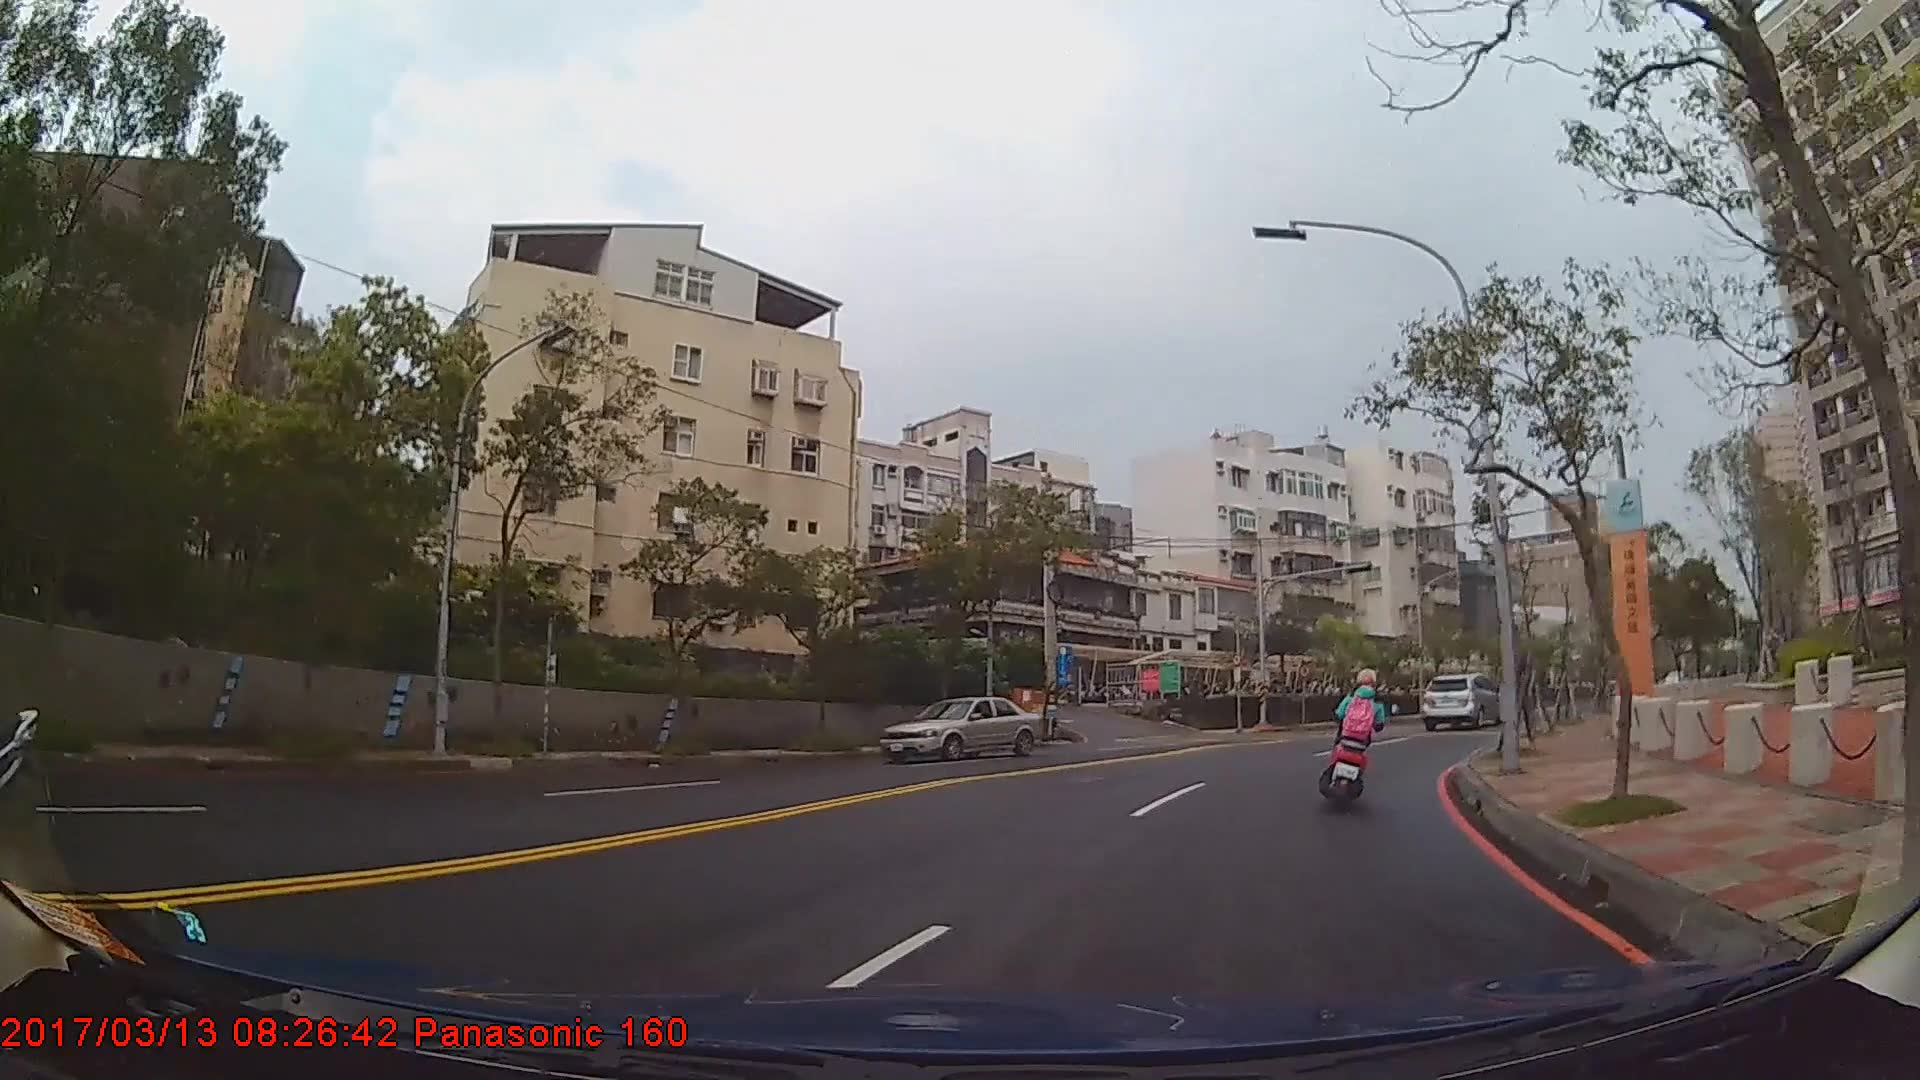rider: (1326, 669, 1388, 801)
vehicle: (877, 697, 1042, 763), (1420, 673, 1500, 731)
